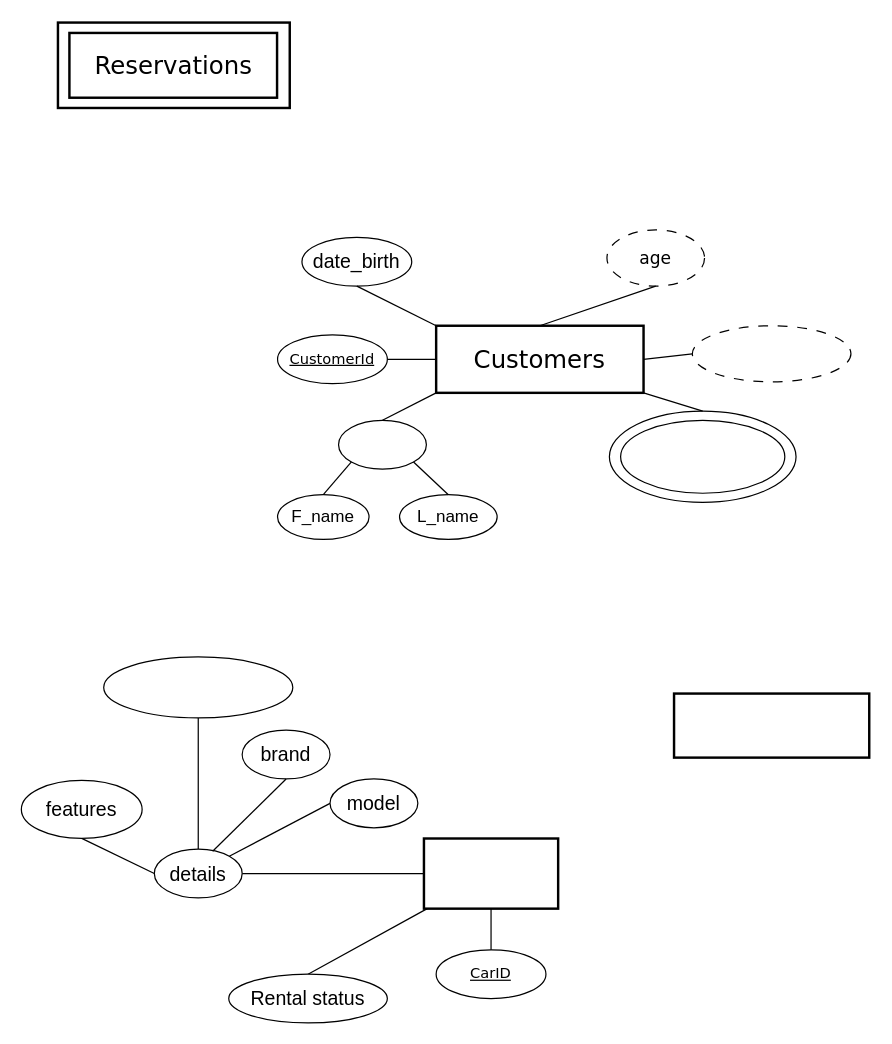
This 892x1044 diagram has some shape labels left out. The shapes that lost their labels are listed below. From the top down, each one's centre as x and y in pixels, then its label:
At point 771,353: "get_discount".
At point 381,444: "Name".
At point 702,456: "Phone_num".
At point 197,687: "manufacture_year".
At point 771,725: "Payments".
At point 490,873: "Cars".
